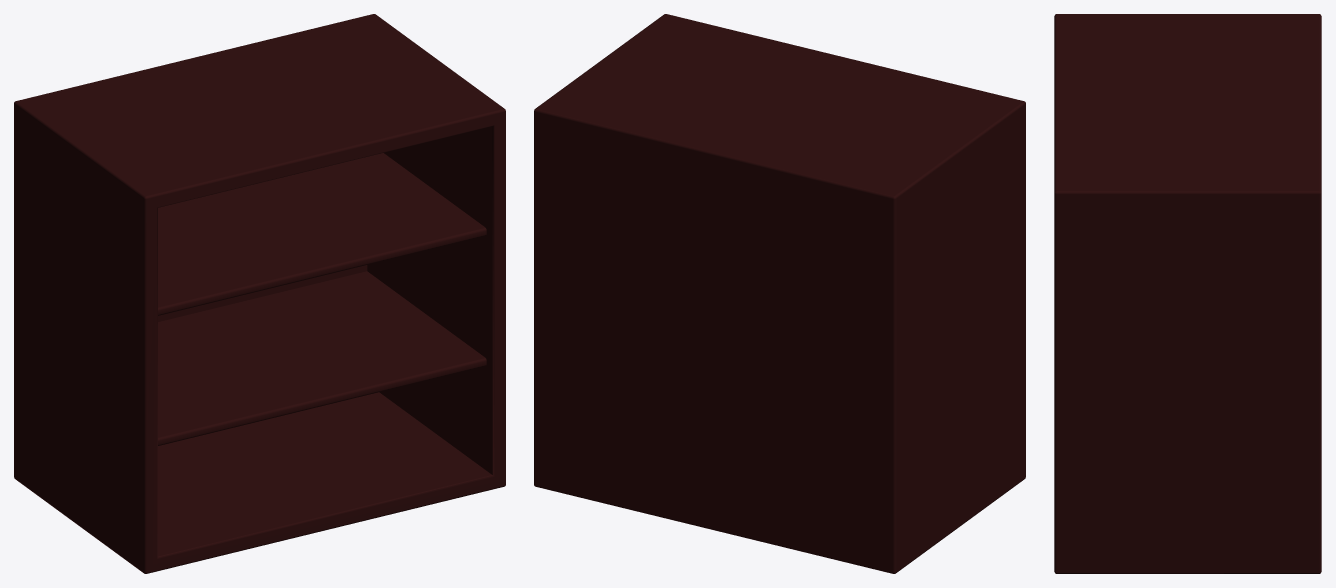
File: kuchnia_01_szafka_wiszaca.fbx
The picture shows the model from 3 angles, left to right: view 1: azimuth 30°, elevation 25°; view 2: azimuth 150°, elevation 25°; view 3: azimuth 270°, elevation 25°; orthographic projection.
Parts seen in each view (by area): view 1: Mesh; view 2: Mesh; view 3: Mesh.
Part boxes in pixels (box(x1,y1,x2,y2)): Mesh: box(14, 14, 505, 573); Mesh: box(534, 14, 1025, 573); Mesh: box(1054, 14, 1321, 573).
Bounding box in the file's own units: 80 × 79.81 × 50.5.
